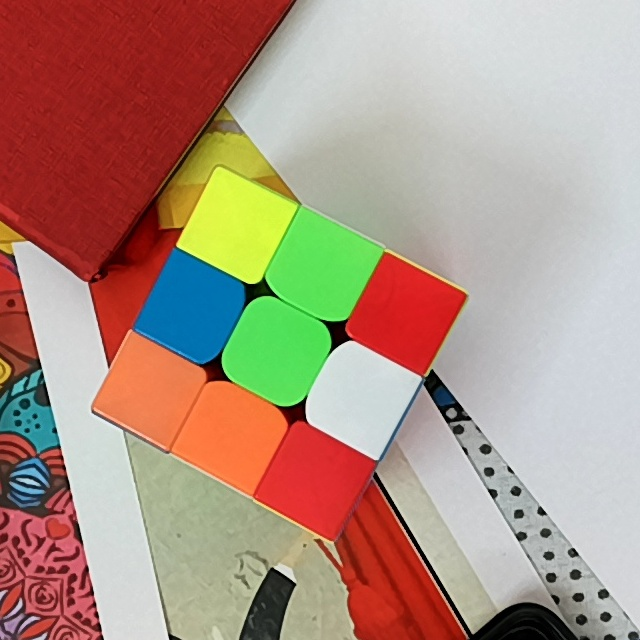tile: (242, 318, 311, 384), (286, 236, 356, 301), (370, 284, 439, 348), (325, 366, 394, 430), (196, 403, 266, 466), (281, 447, 349, 510), (161, 278, 226, 341), (116, 358, 181, 421), (202, 198, 268, 260)
